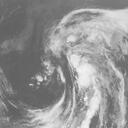cyclone: (12, 33, 84, 112)
